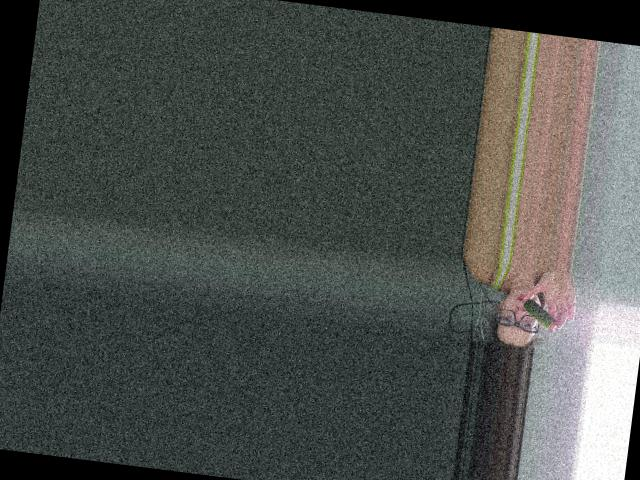cucumber: (520, 298, 555, 329)
